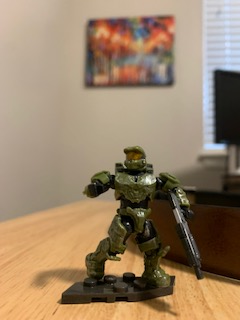chief: (82, 145, 194, 288)
rifle: (165, 190, 206, 281)
spartan: (80, 143, 192, 286)
